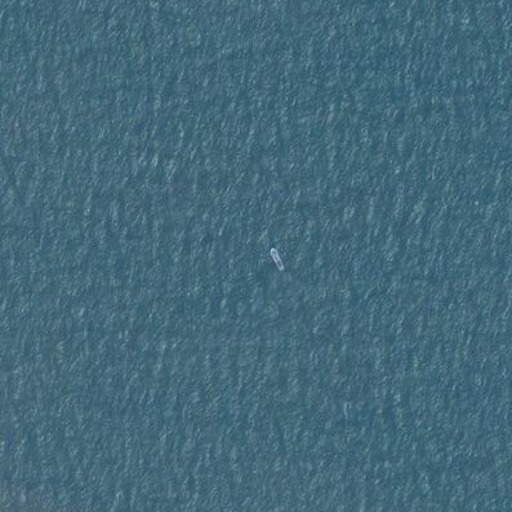ship: (267, 246, 287, 274)
